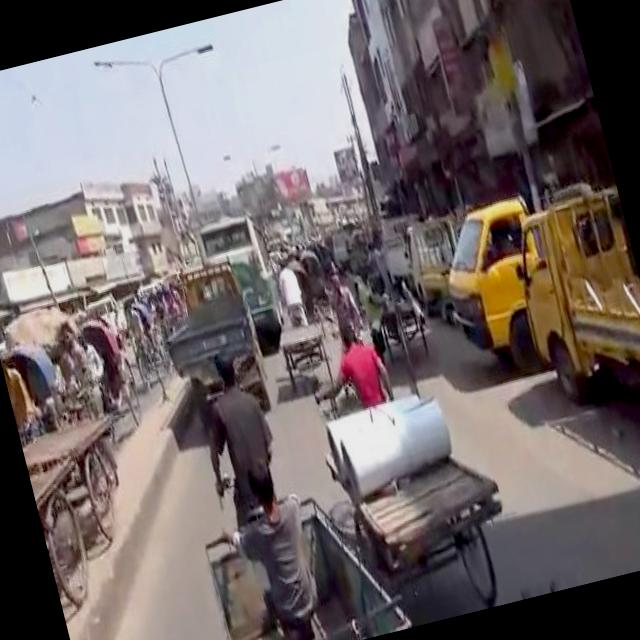bus: (188, 200, 291, 350)
motorcycle: (289, 290, 523, 628), (167, 429, 423, 640), (73, 306, 151, 448), (0, 327, 72, 439), (118, 288, 171, 395), (300, 242, 332, 302), (284, 255, 315, 313)
truck: (493, 163, 640, 443), (428, 179, 568, 370), (147, 247, 280, 434), (396, 197, 476, 310), (376, 203, 430, 280), (84, 284, 148, 342)
